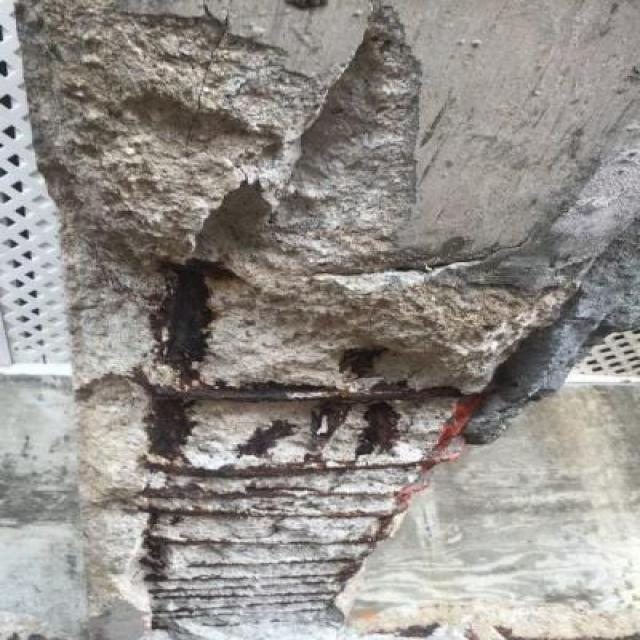Spalling: (77, 17, 496, 640)
